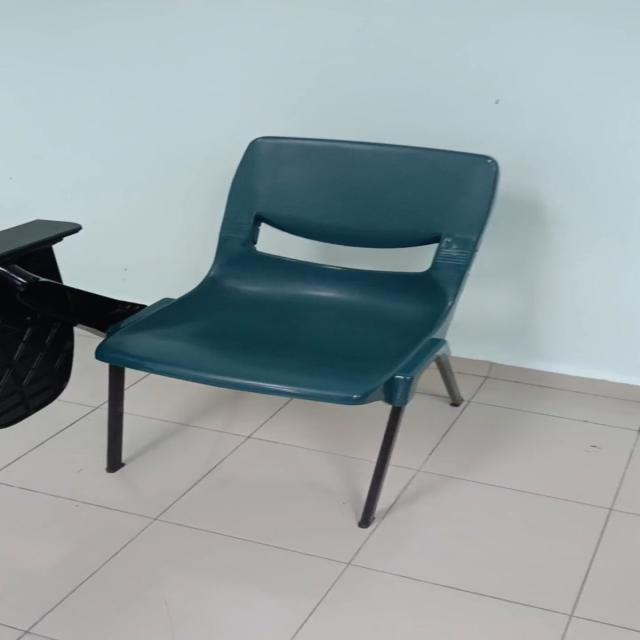sandalye: (95, 137, 498, 528)
